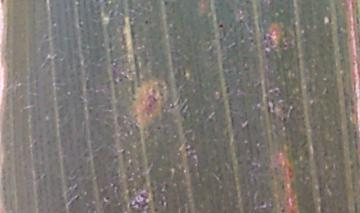tarspot: (260, 82, 293, 127), (126, 186, 153, 213), (260, 31, 277, 55), (256, 199, 268, 211), (216, 20, 225, 30), (101, 197, 113, 203), (161, 1, 172, 7), (142, 17, 150, 25), (155, 125, 163, 131)
